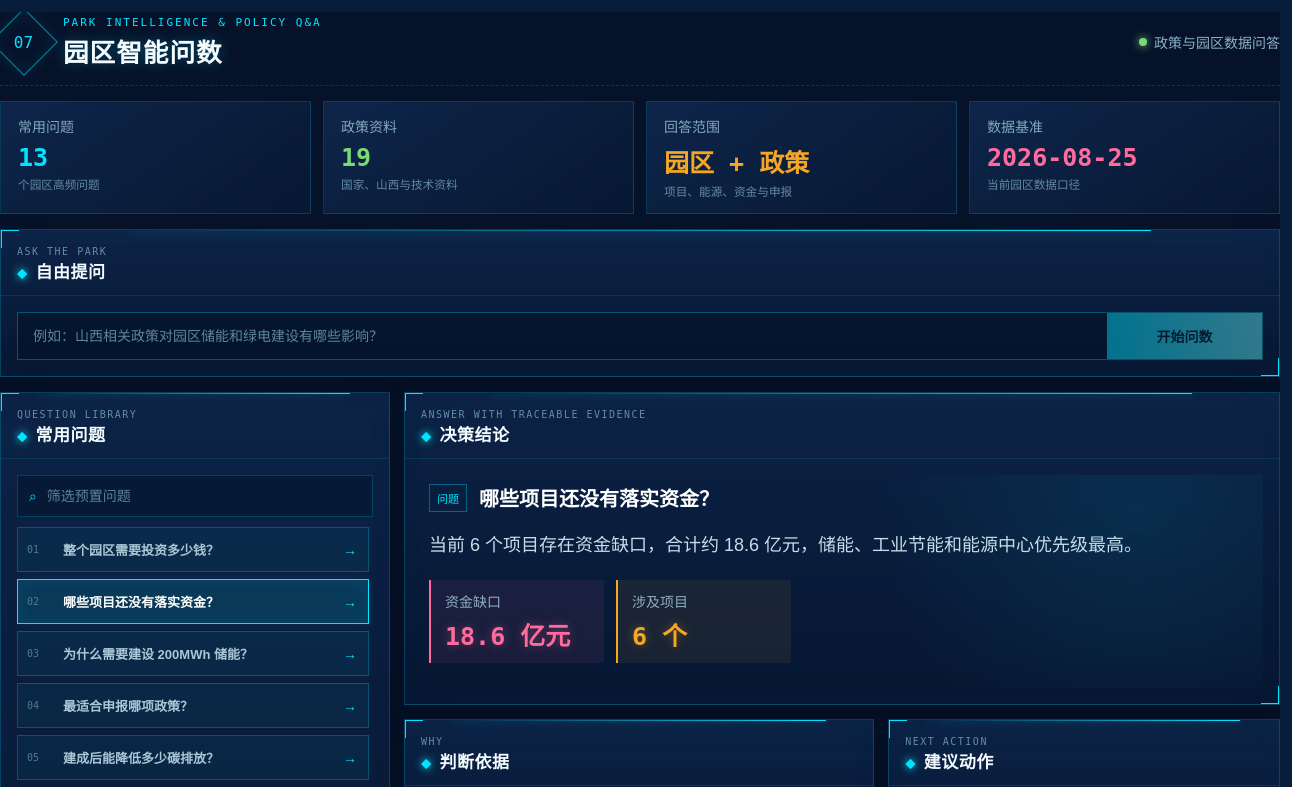
Test: QaPage › submits a free question and renders policy evidence citations
Type "山西零碳园区应如何配置储能？" into the field named "输入园区或政策问题" at {"x": 562, "y": 336}, box [18,313,1107,359]
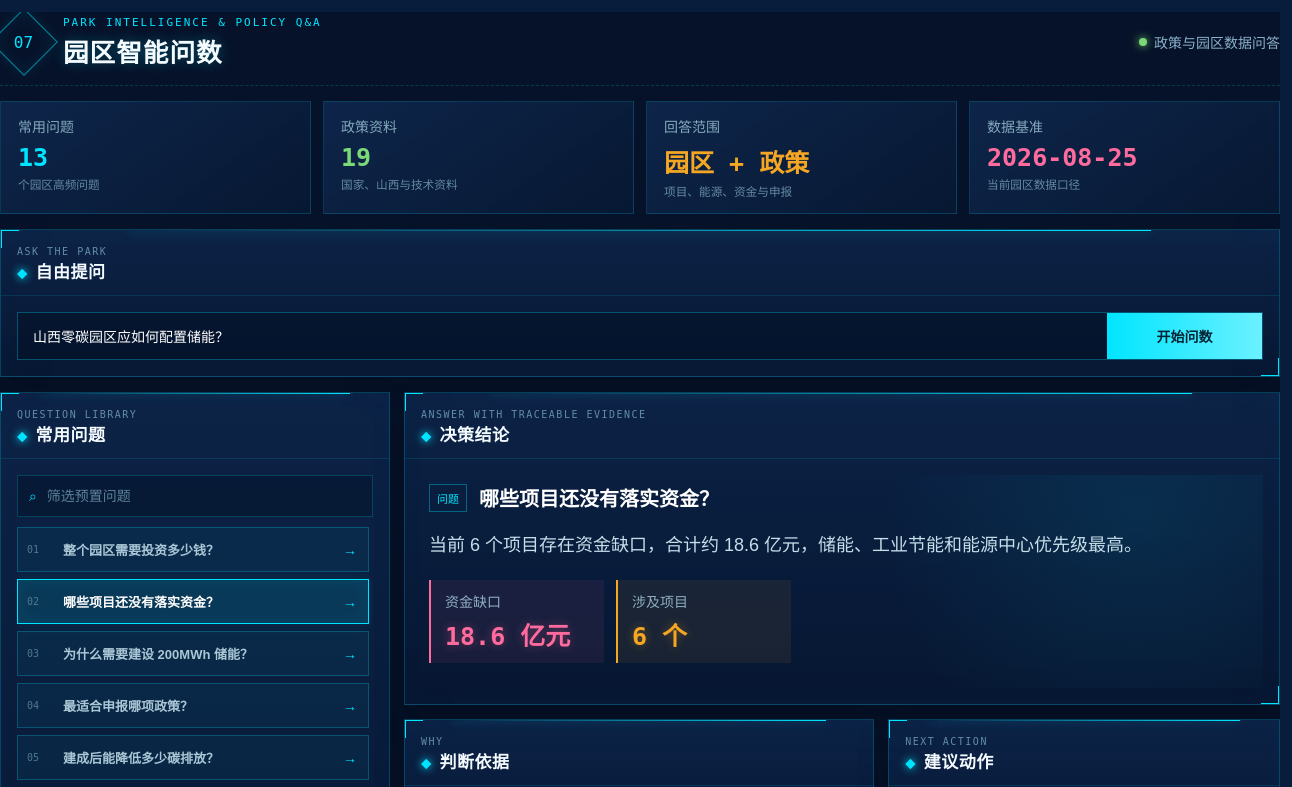
Submit the form with test id "ask-policy", box [17,312,1263,360]
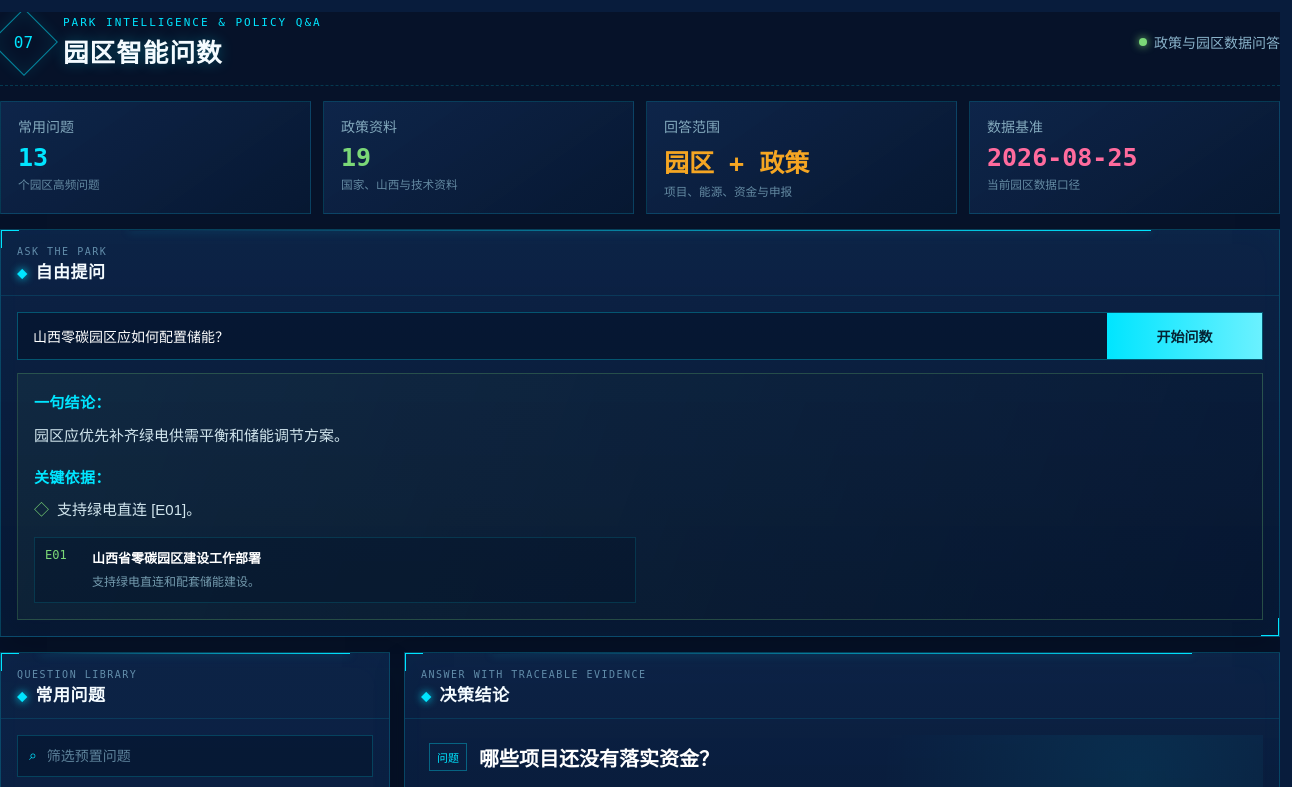
expect the element with test id "ai-answer" shows "优先补齐绿电供需平衡": met, box [34,427,349,444]
expect the element with test id "ai-answer" shows "E01": met, box [34,537,636,603]
expect the element with test id "ai-answer" shows "山西省零碳园区建设工作部署": met, box [34,537,636,603]
